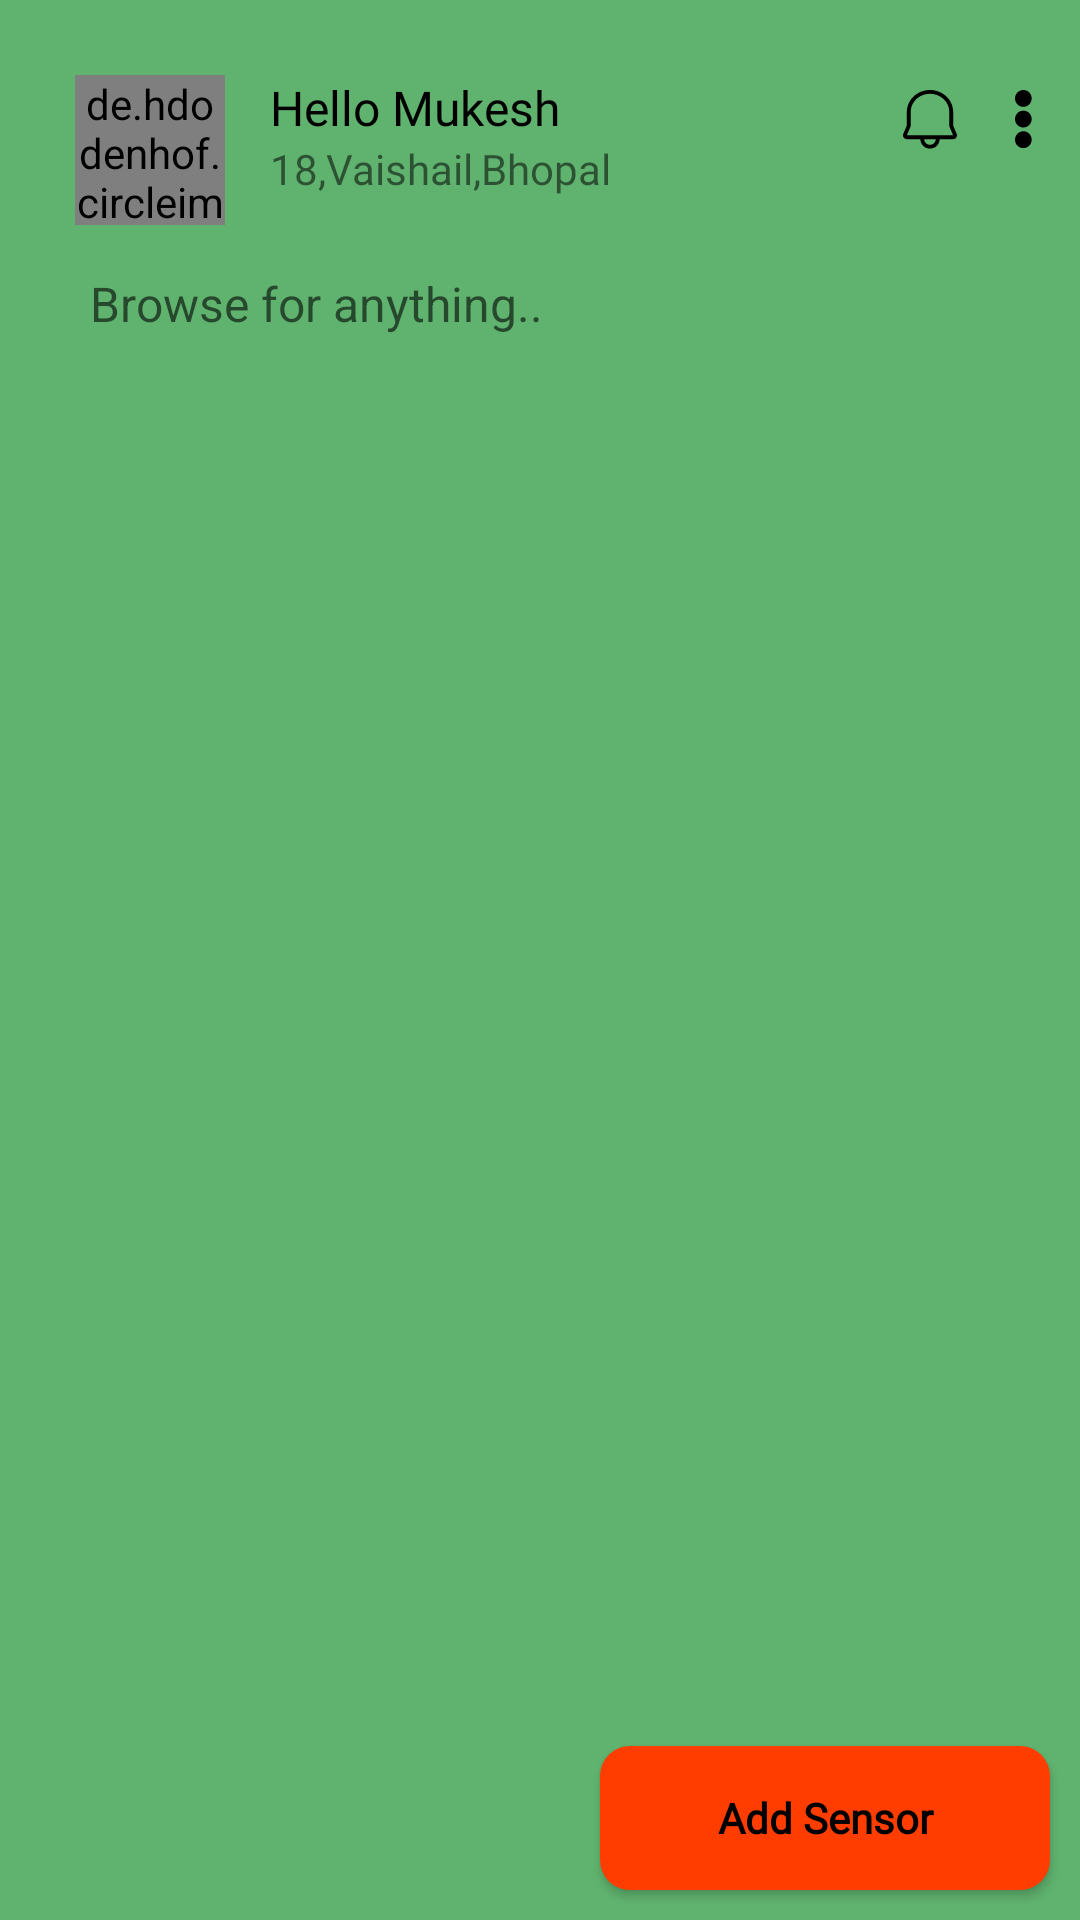

Named icons in this screenshot (1080×1920) and their centers, (x=x, y=y):
notification: (x=930, y=119)
